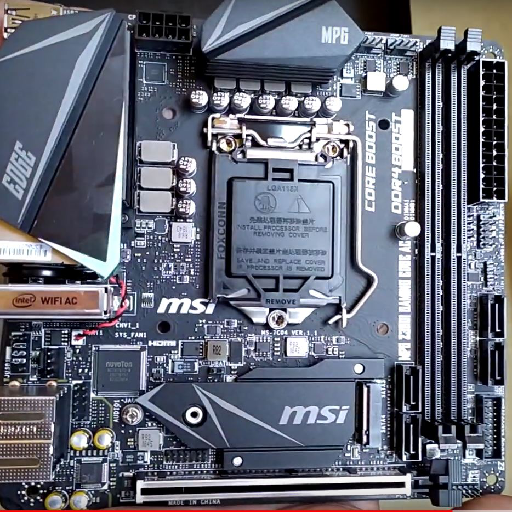CPU: (200, 112, 365, 326)
GPU: (135, 460, 459, 505)
MOTHERBOARD: (4, 11, 499, 503)
RAM: (411, 27, 484, 442)
